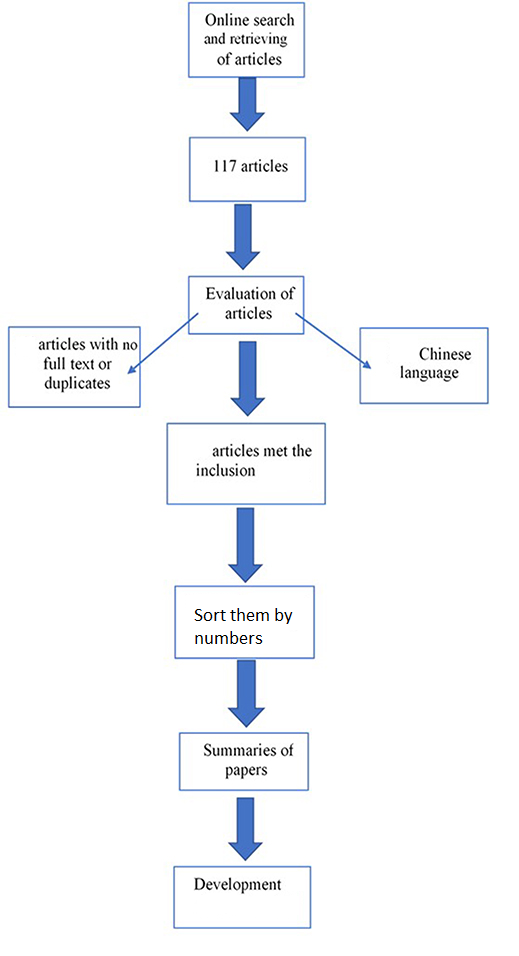arrow: (290, 308, 374, 376), (124, 311, 202, 378), (221, 654, 269, 730), (228, 339, 272, 420), (224, 502, 266, 585), (222, 204, 268, 273), (223, 70, 267, 134), (226, 792, 264, 862)
process: (158, 417, 327, 507), (4, 322, 151, 413), (170, 581, 323, 665), (353, 322, 492, 406), (168, 860, 312, 933), (173, 723, 317, 795), (181, 3, 309, 80), (184, 129, 311, 204), (183, 272, 309, 339)
text: (196, 7, 296, 69), (35, 336, 141, 394), (193, 440, 315, 482), (189, 604, 293, 649), (201, 284, 299, 324), (199, 740, 296, 780), (395, 342, 473, 385), (190, 871, 282, 896), (210, 154, 290, 176)
